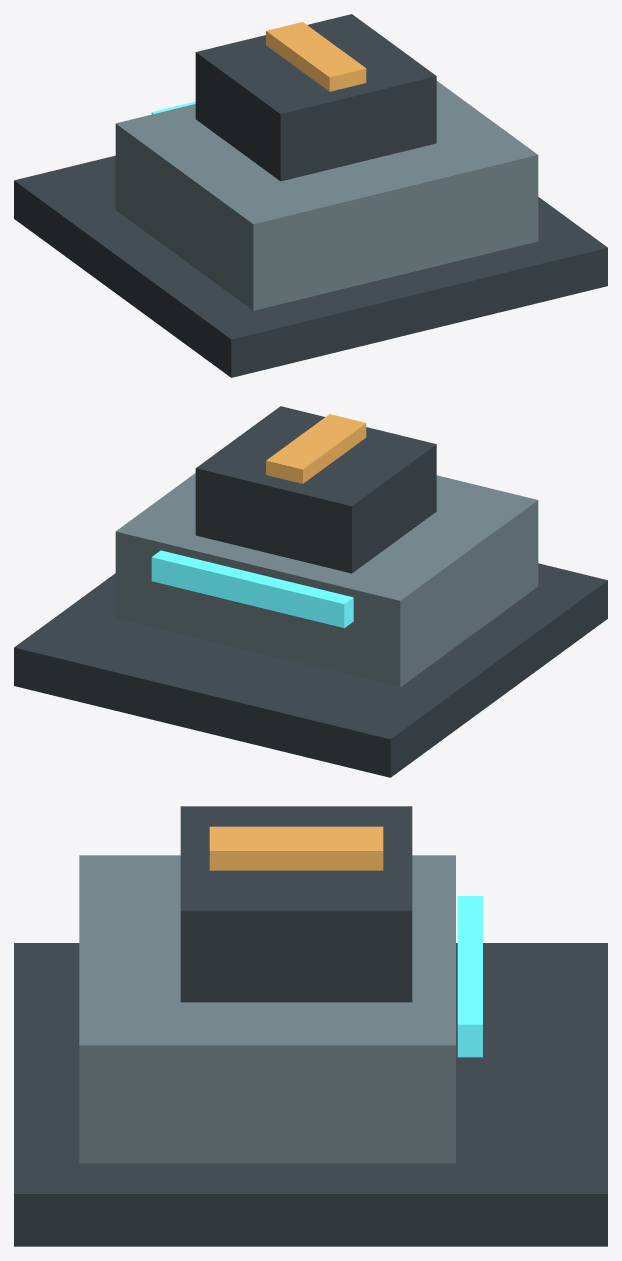
The model's file is Narrative-elias_testament.glb.
3 renders of one model, top to bottom at view 1: azimuth 30°, elevation 25°; view 2: azimuth 150°, elevation 25°; view 3: azimuth 270°, elevation 25°, orthographic. The views are drawn at different scales.
Visible parts, largest first — view 1: Reader, Base, Cassette, Seal; view 2: Base, Reader, Cassette, Readout, Seal; view 3: Base, Reader, Cassette, Seal, Readout.
Boxes of the visible parts, x1=… form: Reader: x1=115, y1=81, x2=538, y2=310; Base: x1=14, y1=155, x2=607, y2=377; Cassette: x1=195, y1=14, x2=436, y2=181; Seal: x1=266, y1=22, x2=366, y2=91; Base: x1=14, y1=563, x2=607, y2=777; Reader: x1=115, y1=473, x2=538, y2=687; Cassette: x1=195, y1=406, x2=436, y2=573; Readout: x1=151, y1=550, x2=353, y2=628; Seal: x1=266, y1=414, x2=366, y2=483; Base: x1=14, y1=943, x2=607, y2=1246; Reader: x1=79, y1=855, x2=455, y2=1163; Cassette: x1=180, y1=806, x2=412, y2=1002; Seal: x1=209, y1=826, x2=383, y2=870; Readout: x1=457, y1=896, x2=482, y2=1057.
Bounding box in the file's own units: 1.64 × 0.86 × 1.64.
